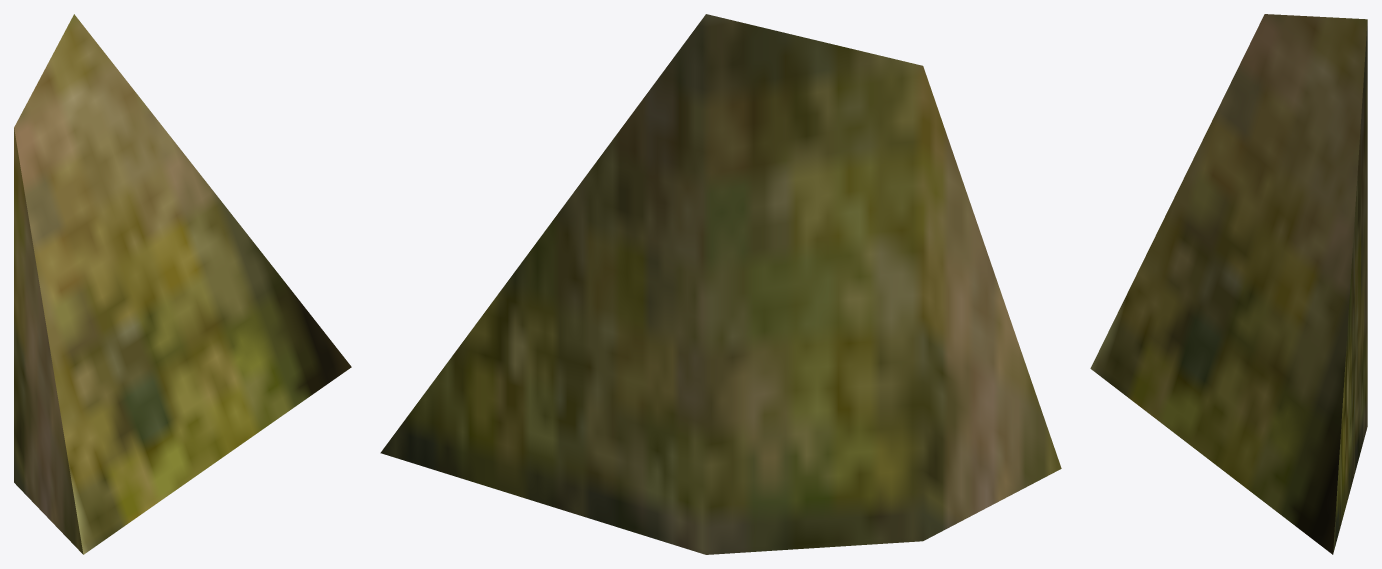
The model's file is OVERHILL_A_01_OBJECT191.fbx.
The picture shows the model from 3 angles, left to right: view 1: azimuth 30°, elevation 25°; view 2: azimuth 150°, elevation 25°; view 3: azimuth 270°, elevation 25°; orthographic projection. The views are drawn at different scales.
Visible parts, largest first — view 1: OVERHILL_A_01_OBJECT191; view 2: OVERHILL_A_01_OBJECT191; view 3: OVERHILL_A_01_OBJECT191.
Part boxes in pixels (<box>): OVERHILL_A_01_OBJECT191: <box>14,14,351,554</box>; OVERHILL_A_01_OBJECT191: <box>380,14,1061,554</box>; OVERHILL_A_01_OBJECT191: <box>1090,14,1367,554</box>.
Size of the model in its own units: 4766 by 4793 by 2919.
1 material, 1 textured.
